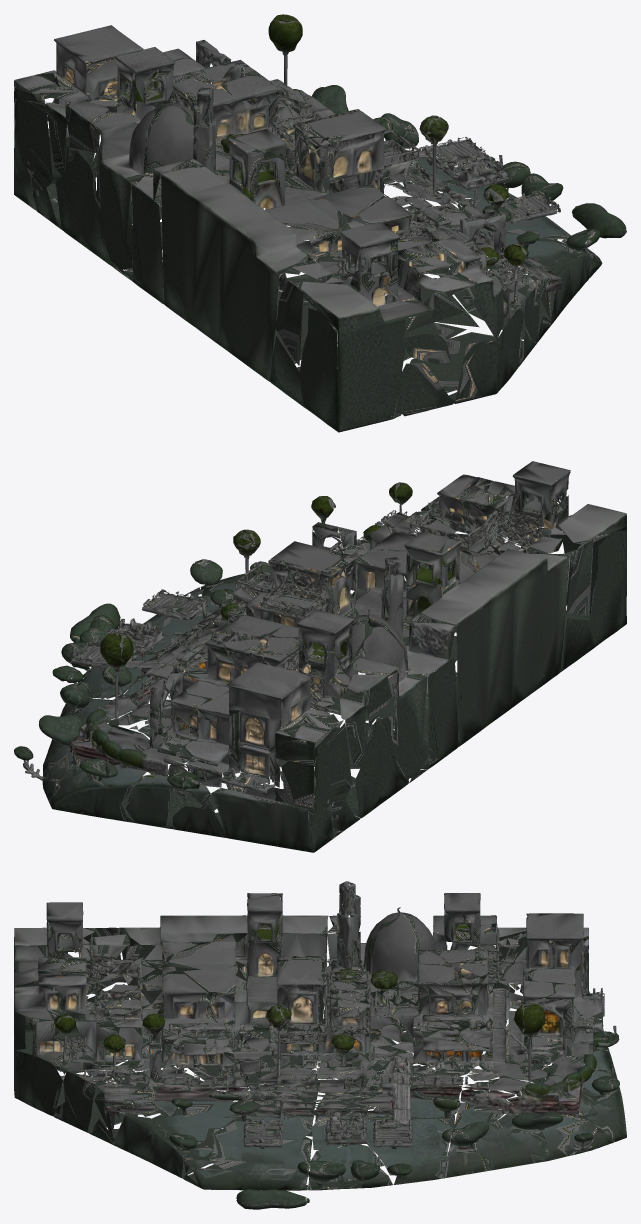
The picture shows the model from 3 angles, top to bottom: view 1: azimuth 30°, elevation 25°; view 2: azimuth 150°, elevation 25°; view 3: azimuth 270°, elevation 25°; orthographic projection. The views are drawn at different scales.
Parts seen in each view (by area): view 1: LOD0; view 2: LOD0; view 3: LOD0.
Boxes of the visible parts, bbox=[...] form: LOD0: bbox=[14, 14, 626, 432]; LOD0: bbox=[14, 461, 626, 852]; LOD0: bbox=[14, 881, 626, 1209].
Bounding box in the file's own units: 0.6643 × 0.2892 × 0.9463.
Materials: 1 (1 with a texture image).
